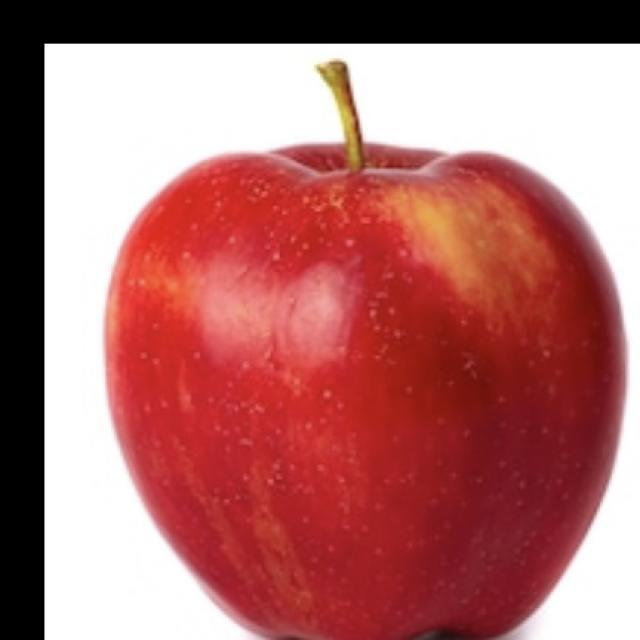Fresh Apple: (153, 138, 640, 640)
